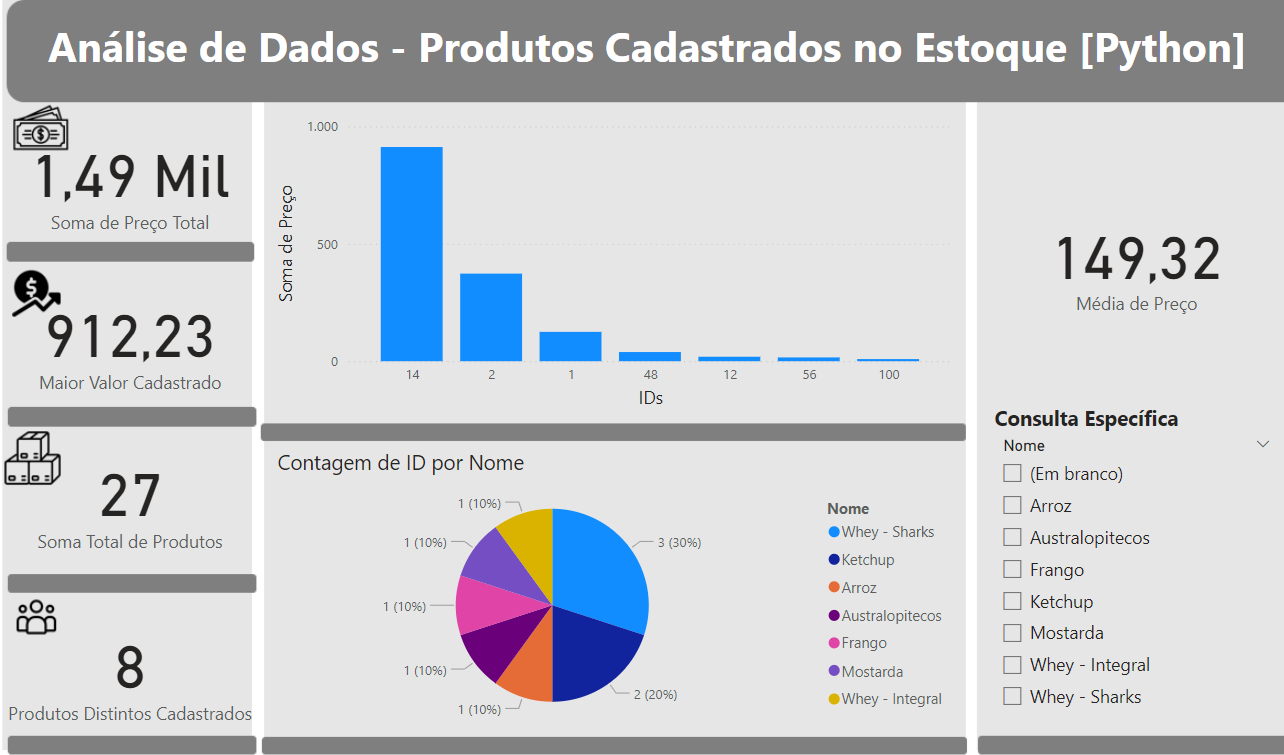

The dashboard page shown, as its layout file describes it:
{"tool":"powerbi","page":{"name":"Página 1","canvas":[1280,720],"ordinal":0},"visuals":[{"type":"card","fields":{"Values":["Sum(Sheet1.Preço)"]},"box":[122.7,122.7,216.4,116.4],"z":0},{"type":"card","fields":{"Values":["Count(Sheet1.Nome)"]},"box":[112.7,569.1,236.4,116.4],"z":1000},{"type":"card","fields":{"Values":["Sum(Sheet1.Quantidade)"]},"box":[122.7,412.7,216.4,116.4],"z":2000},{"type":"card","fields":{"Values":["Max(Sheet1.Preço)"]},"box":[122.7,268.2,216.4,116.4],"z":3000},{"type":"textbox","box":[122.7,28.2,1157.3,74.5],"z":4000},{"type":"clusteredColumnChart","fields":{"Category":["Sheet1.ID"],"Y":["Sum(Sheet1.Preço)"]},"box":[360,118.2,623.6,275.5],"z":5000},{"type":"pieChart","fields":{"Category":["Sheet1.Nome"],"Y":["CountNonNull(Sheet1.ID)"]},"box":[360,424.5,623.6,260.9],"z":6000},{"type":"card","fields":{"Values":["Avg(Sheet1.Preço)"]},"box":[1011.8,125.5,268.2,259.1],"z":7000},{"type":"slicer","title":"Consulta Específica","fields":{"Values":["Sheet1.Nome"]},"box":[1011.8,384.5,268.2,287.3],"z":8000}]}

Visuals, with their boxes on the page's 1280x720 design canvas (x1, y1, x2, y2). These are canvas units, not pixel positions in the 1284x755 screenshot, which may show the page scaled, cropped or inside an application window:
card - Sum(Sheet1.Preço): bbox=(123, 123, 339, 239)
card - Count(Sheet1.Nome): bbox=(113, 569, 349, 686)
card - Sum(Sheet1.Quantidade): bbox=(123, 413, 339, 529)
card - Max(Sheet1.Preço): bbox=(123, 268, 339, 385)
textbox: bbox=(123, 28, 1280, 103)
clusteredColumnChart - Sheet1.ID x Sum(Sheet1.Preço): bbox=(360, 118, 984, 394)
pieChart - Sheet1.Nome x CountNonNull(Sheet1.ID): bbox=(360, 424, 984, 685)
card - Avg(Sheet1.Preço): bbox=(1012, 126, 1280, 385)
"Consulta Específica" slicer: bbox=(1012, 384, 1280, 672)
